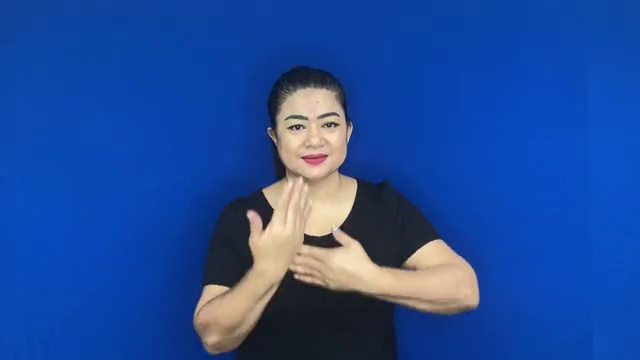bread: (239, 171, 393, 303)
